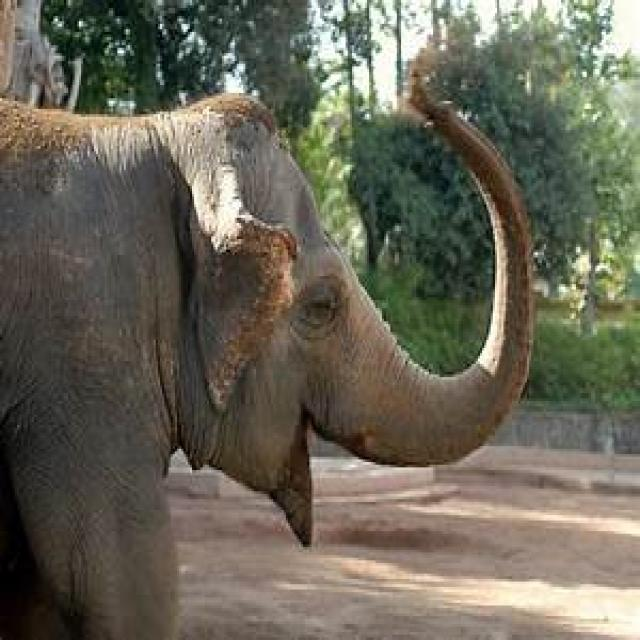elephant: (0, 93, 535, 640)
